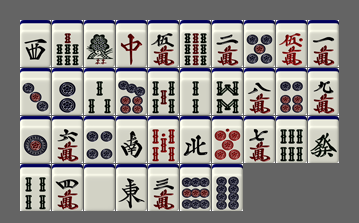0m: (276, 20, 307, 67)
0p: (212, 116, 243, 163)
0s: (148, 116, 179, 163)
1m: (308, 20, 339, 67)
1p: (20, 116, 51, 163)
1s: (84, 20, 115, 67)
1z: (116, 164, 147, 211)
2m: (212, 20, 243, 67)
2p: (52, 68, 83, 115)
2s: (180, 68, 211, 115)
2z: (116, 116, 147, 163)
3m: (148, 164, 179, 211)
3p: (20, 68, 51, 115)
3s: (84, 68, 115, 115)
3z: (20, 20, 51, 67)
4m: (52, 164, 83, 211)
4p: (84, 116, 115, 163)
4s: (20, 164, 51, 211)
4z: (180, 116, 211, 163)
5m: (148, 20, 179, 67)
5p: (244, 20, 275, 67)
5s: (148, 68, 179, 115)
5z: (84, 164, 115, 211)
6m: (52, 116, 83, 163)
6p: (276, 68, 307, 115)
6s: (276, 116, 307, 163)
6z: (308, 116, 339, 163)
7m: (244, 116, 275, 163)
7p: (116, 68, 147, 115)
7s: (52, 20, 83, 67)
7z: (116, 20, 147, 67)
8m: (244, 68, 275, 115)
8p: (212, 164, 243, 211)
8s: (212, 68, 243, 115)
9m: (308, 68, 339, 115)
9p: (180, 164, 211, 211)
9s: (180, 20, 211, 67)
